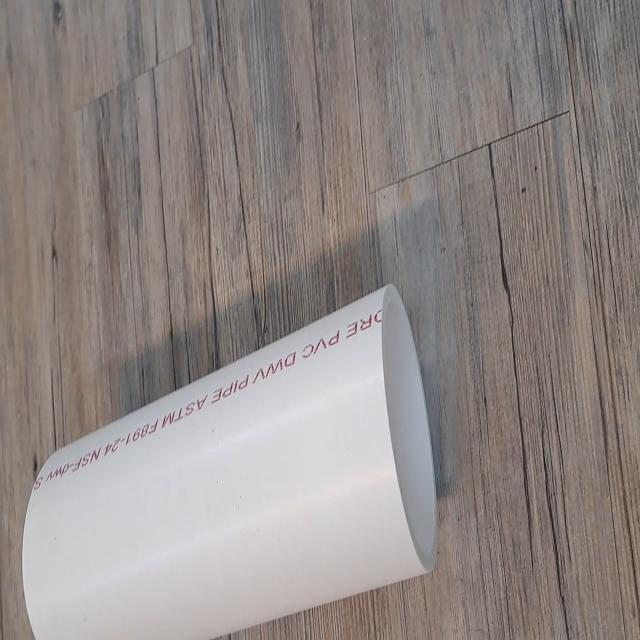CORAL: (19, 277, 441, 640)
